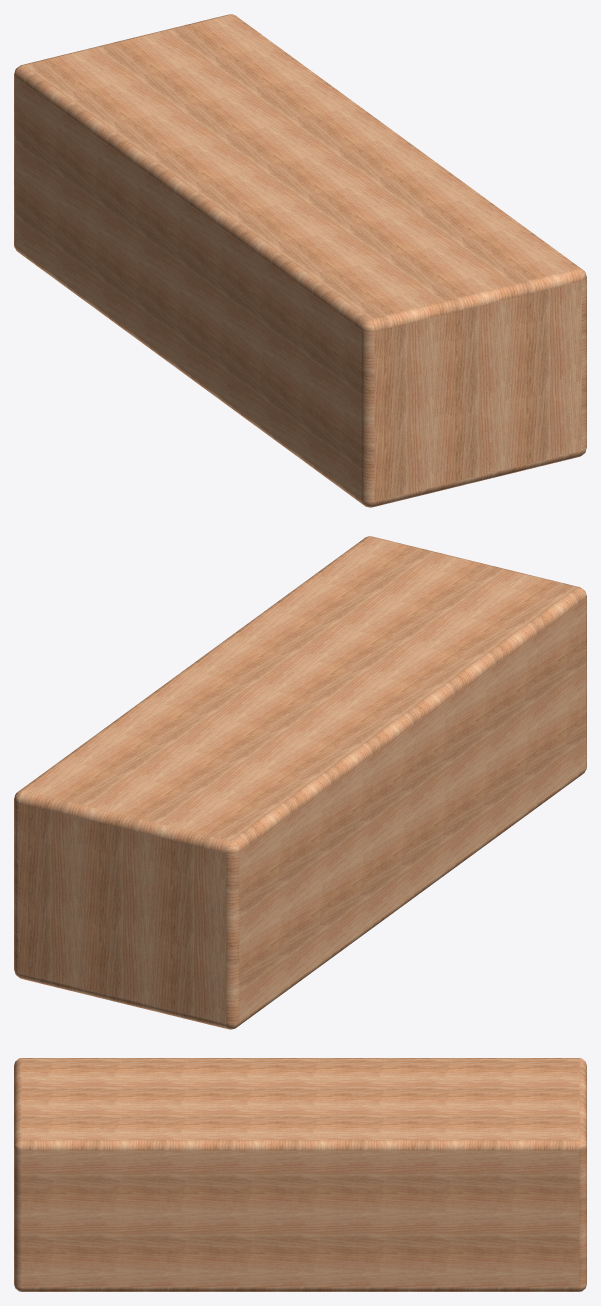
Rendered from Fardo.glb.
3 views of the same model, one above another, from view 1: azimuth 30°, elevation 25°; view 2: azimuth 150°, elevation 25°; view 3: azimuth 270°, elevation 25° (orthographic). The views are drawn at different scales.
Visible parts, largest first — view 1: Solid1; view 2: Solid1; view 3: Solid1.
Part boxes in pixels (x1,y1,x2,y2): Solid1: (14, 14, 586, 507); Solid1: (14, 536, 586, 1029); Solid1: (14, 1058, 586, 1291).
Size of the model in its own units: 0.8 by 0.64 by 2.2.
1 material, 1 textured.
